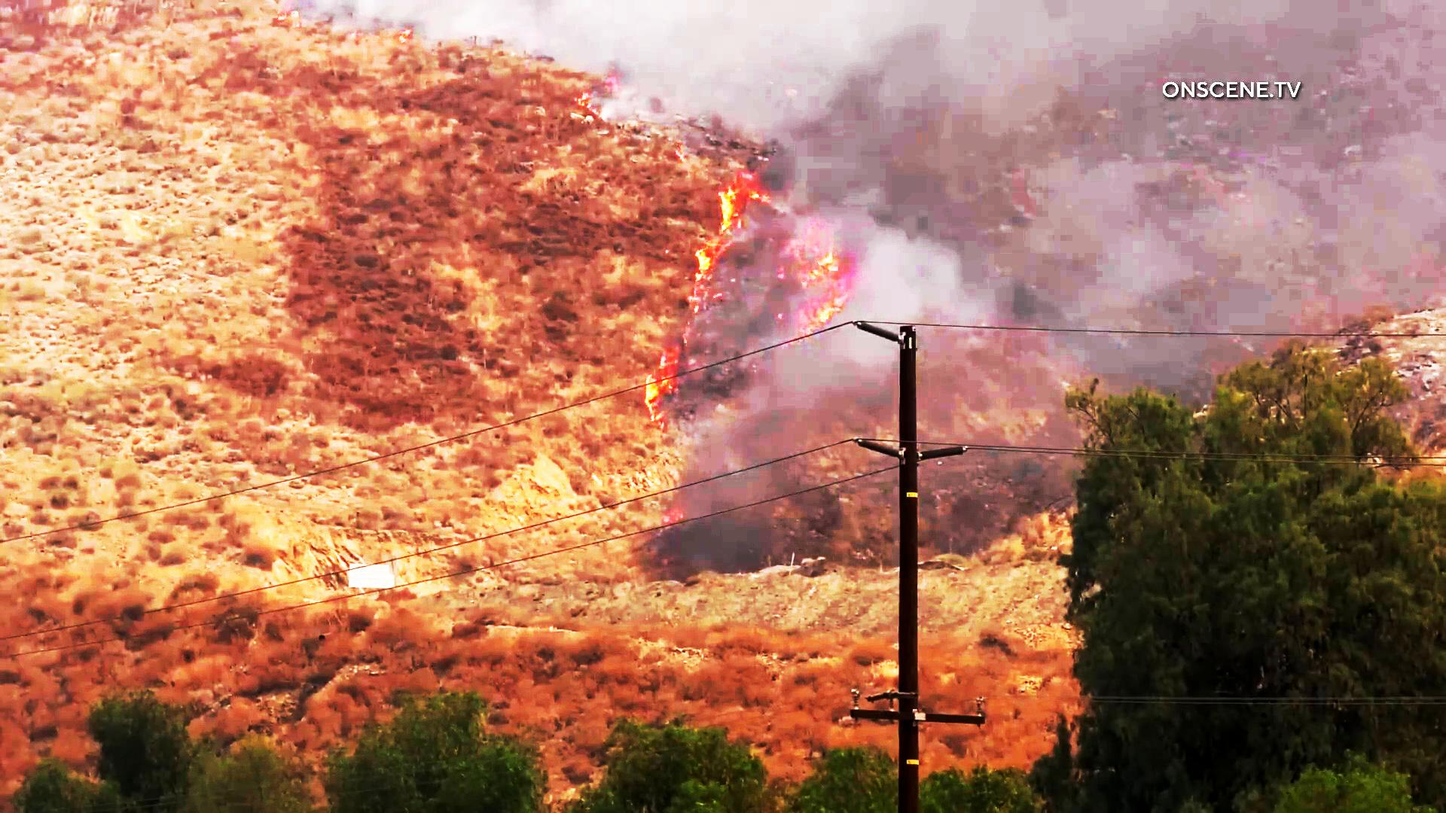fire: (880, 57, 1096, 297), (626, 168, 772, 431), (775, 226, 880, 351)
